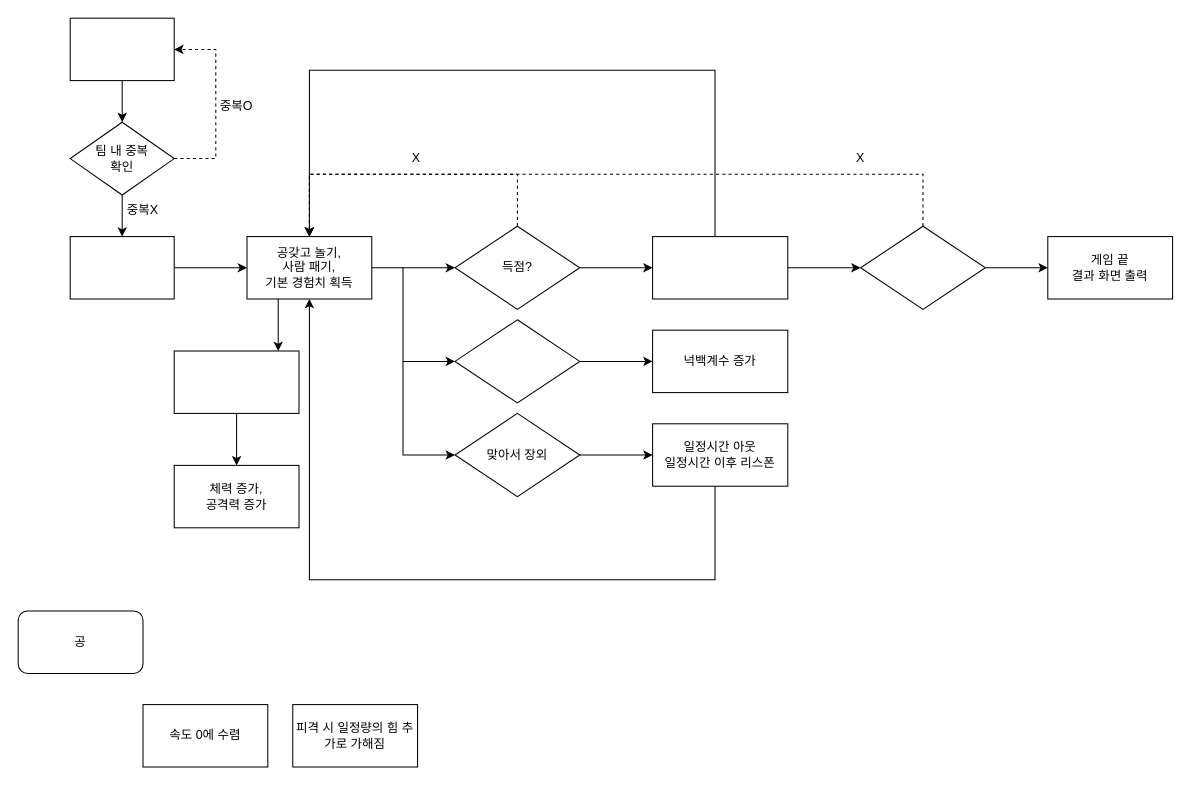
Image size: 1191x785. Some labels were removed from this diagram. The box of each missing label's shape, as (x1, y1, x2, y2) in pixels:
5점 선취?: (860, 225, 985, 309)
게임 시작: (69, 236, 174, 299)
득점 연출(득점, 도움), 경험치: (652, 236, 788, 299)
캐릭터 선택: (69, 17, 174, 81)
플레이어 체력 0: (454, 319, 580, 403)
획득 경험치에 따라 레벨업: (173, 350, 299, 413)
